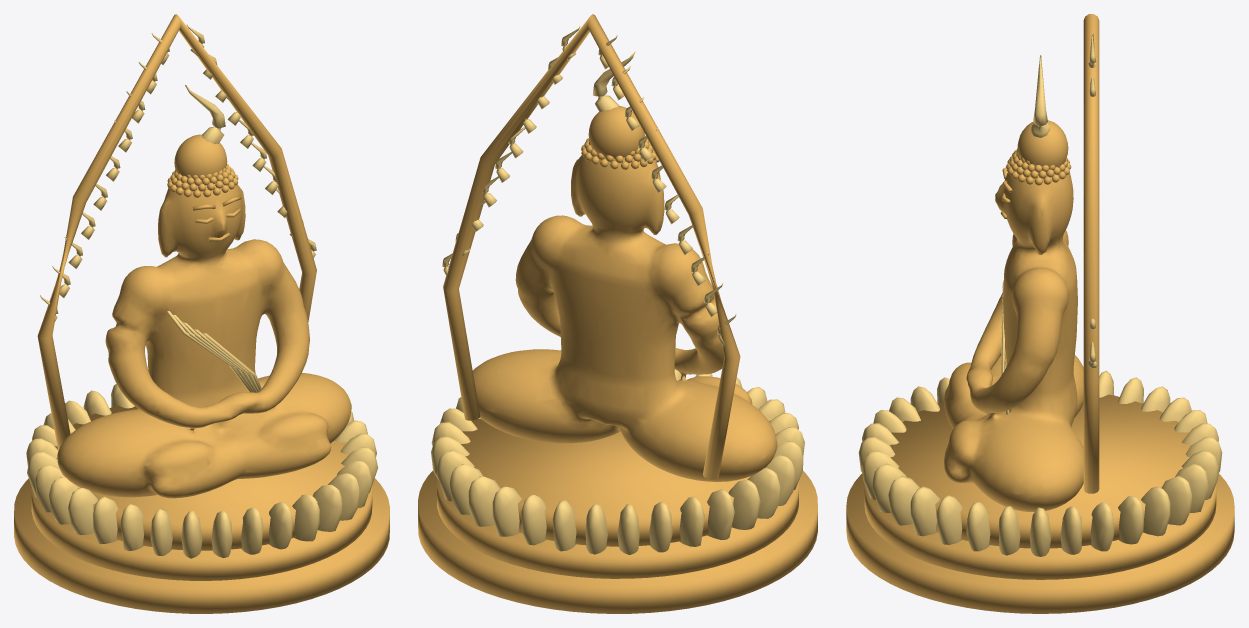
The model's file is buddha-meditation.glb.
3 renders of one model, left to right at view 1: azimuth 30°, elevation 25°; view 2: azimuth 150°, elevation 25°; view 3: azimuth 270°, elevation 25°, orthographic. The views are drawn at different scales.
Parts seen in each view (by area): view 1: buddha-meditation / Antique warm gold, buddha-meditation / Raised gold ornament; view 2: buddha-meditation / Antique warm gold, buddha-meditation / Raised gold ornament; view 3: buddha-meditation / Antique warm gold, buddha-meditation / Raised gold ornament.
Part boxes in pixels (box(x1,y1,x2,y2)): buddha-meditation / Antique warm gold: box(14, 14, 389, 613); buddha-meditation / Raised gold ornament: box(26, 24, 377, 558); buddha-meditation / Antique warm gold: box(418, 14, 817, 613); buddha-meditation / Raised gold ornament: box(431, 26, 804, 554); buddha-meditation / Antique warm gold: box(846, 14, 1234, 613); buddha-meditation / Raised gold ornament: box(858, 32, 1222, 556).
Size of the model in its own units: 3.2 by 4.71 by 3.2.
